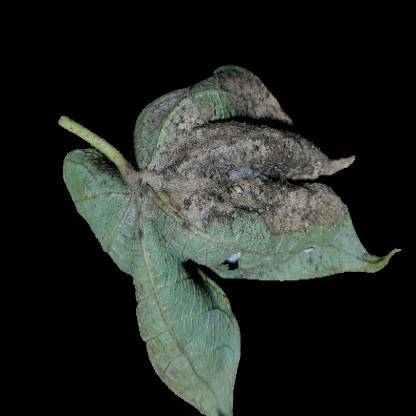curl_stage2: (140, 226, 216, 371), (75, 160, 131, 234), (247, 243, 333, 275)
sooty: (166, 120, 291, 207), (291, 139, 343, 234), (215, 75, 279, 125)
